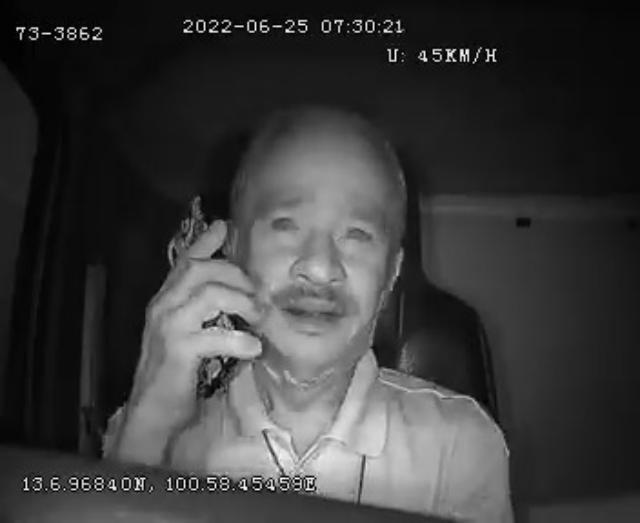PhoneUse: (166, 193, 240, 401)
SafeDriving: (331, 208, 384, 254), (259, 201, 310, 242)
